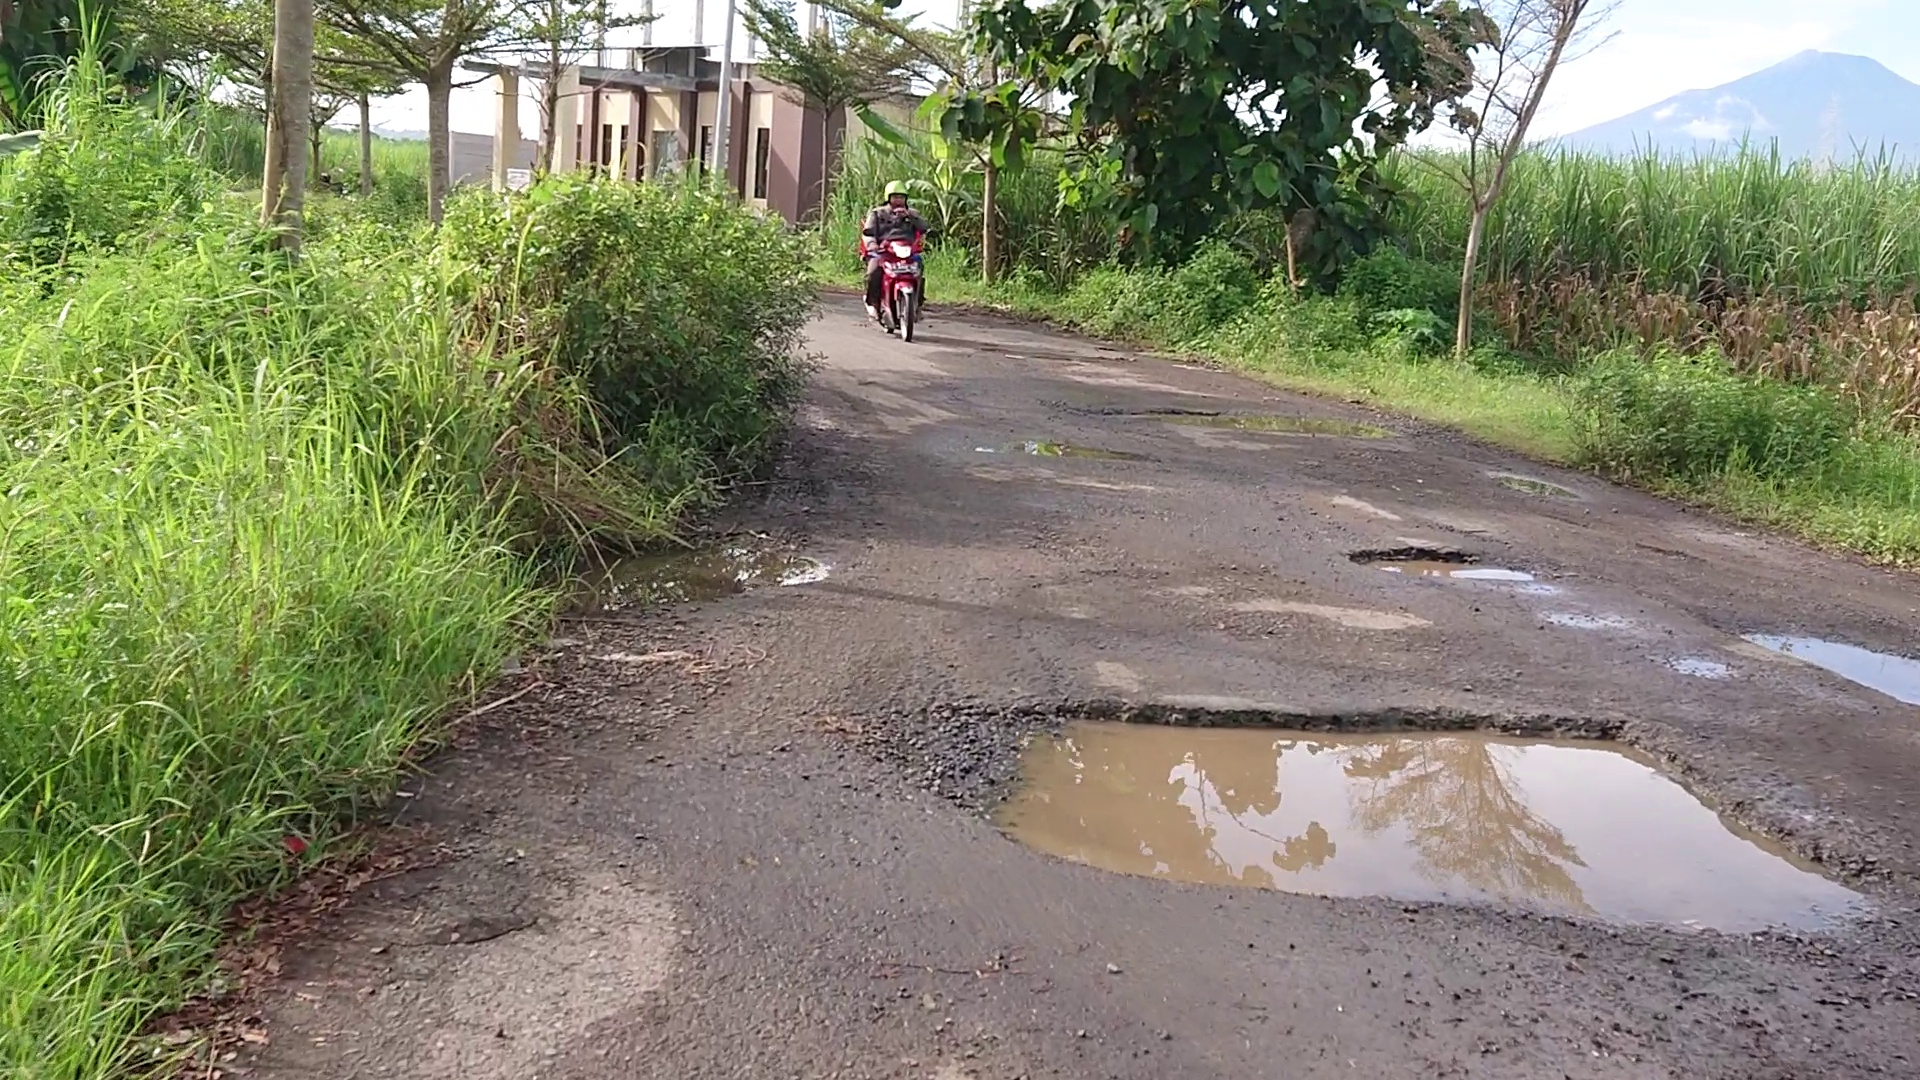Berlubang: (1035, 716, 1855, 938), (1758, 621, 1913, 694), (1139, 407, 1387, 448), (1360, 539, 1526, 595)
